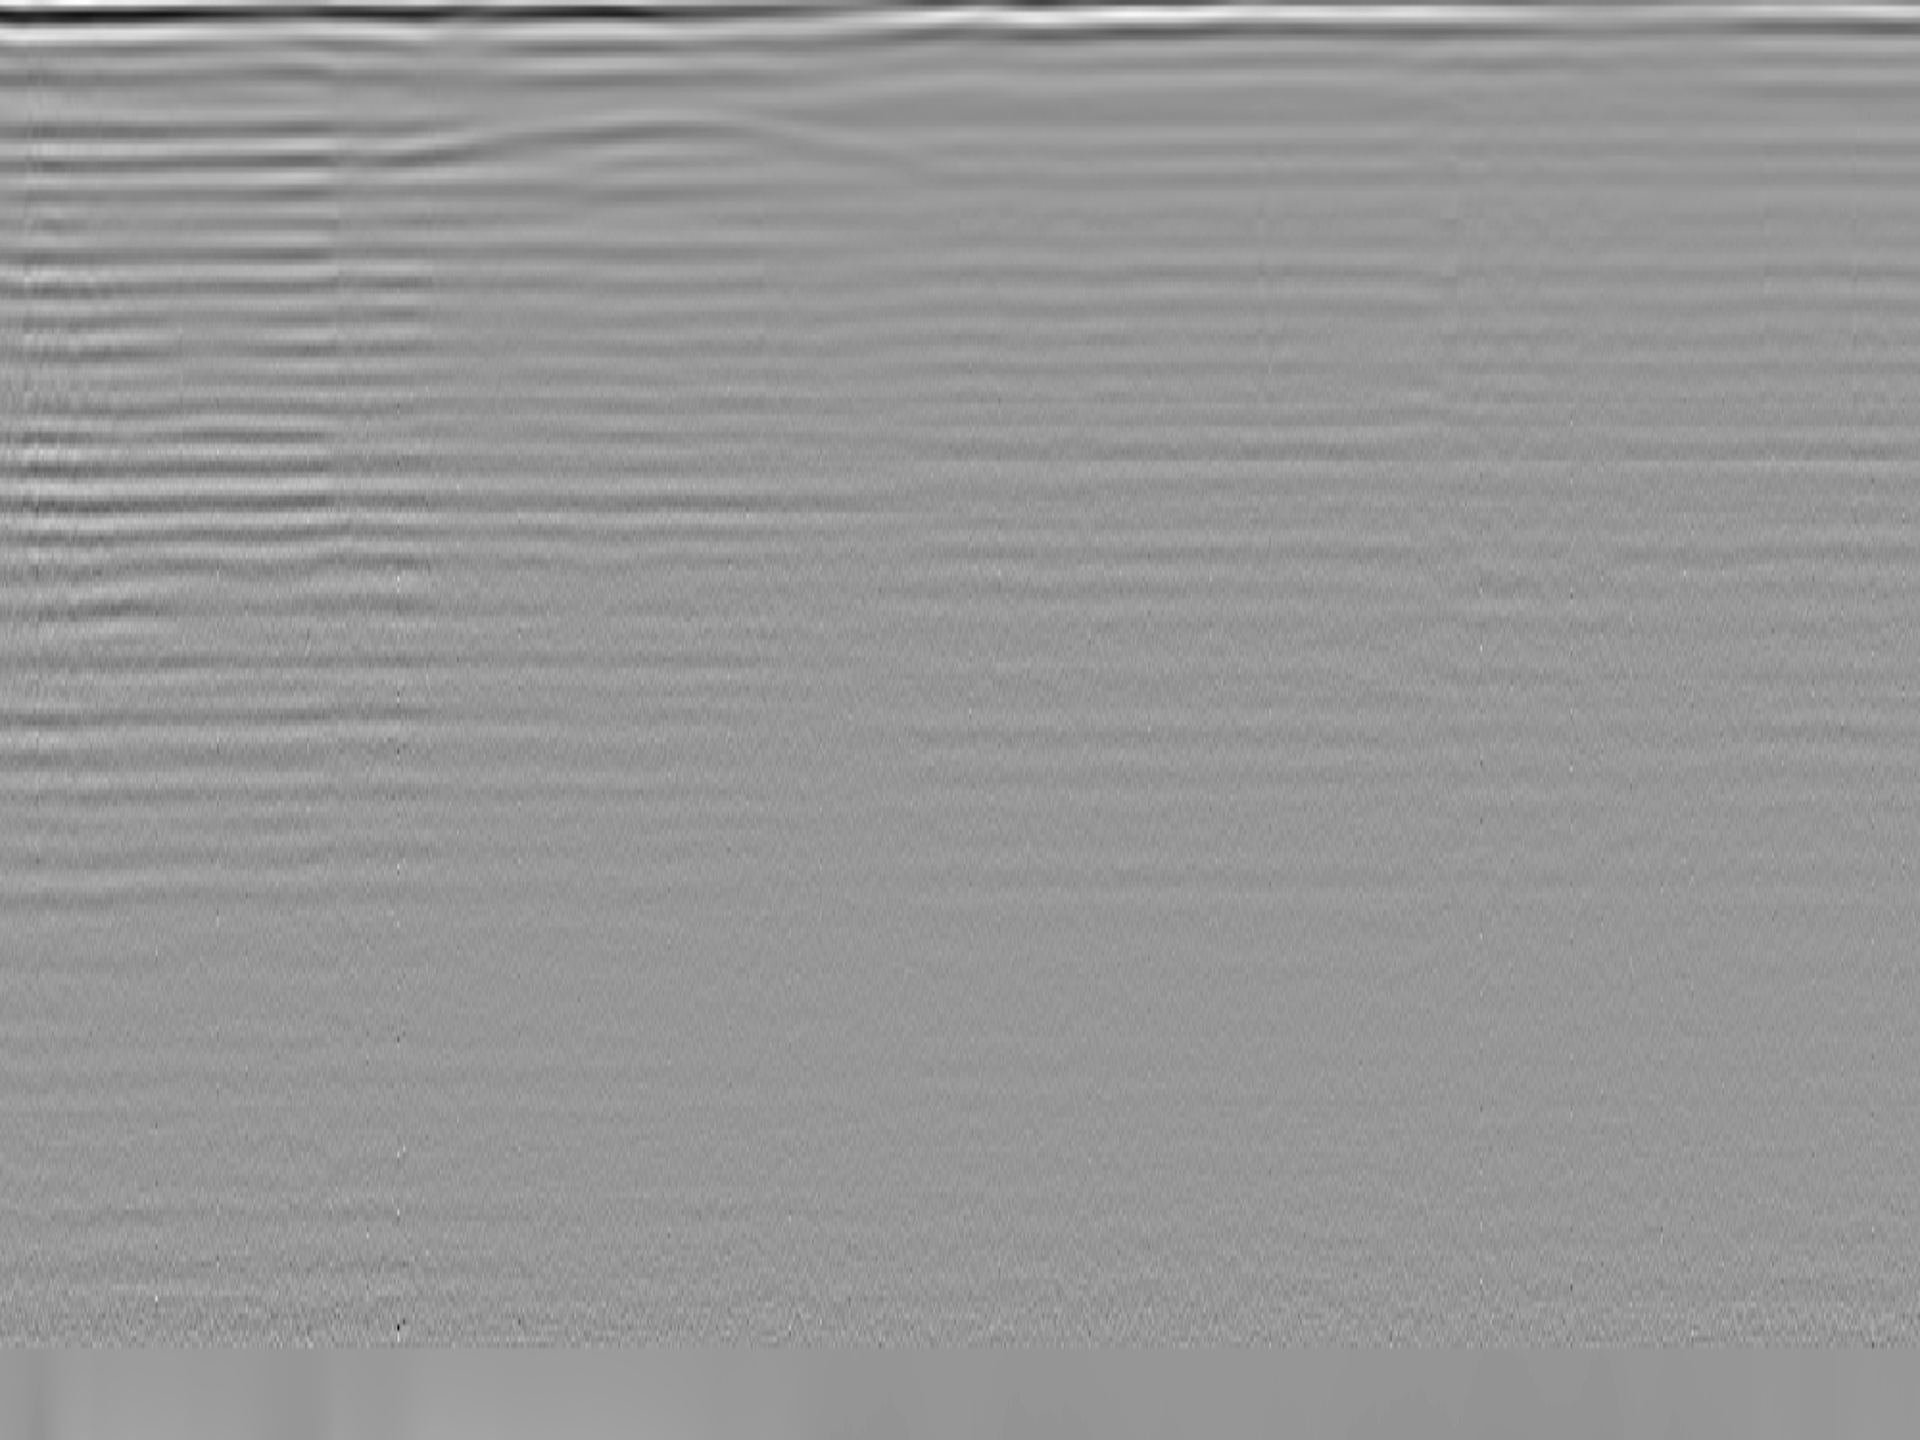Tunnel: (327, 109, 1010, 178)
